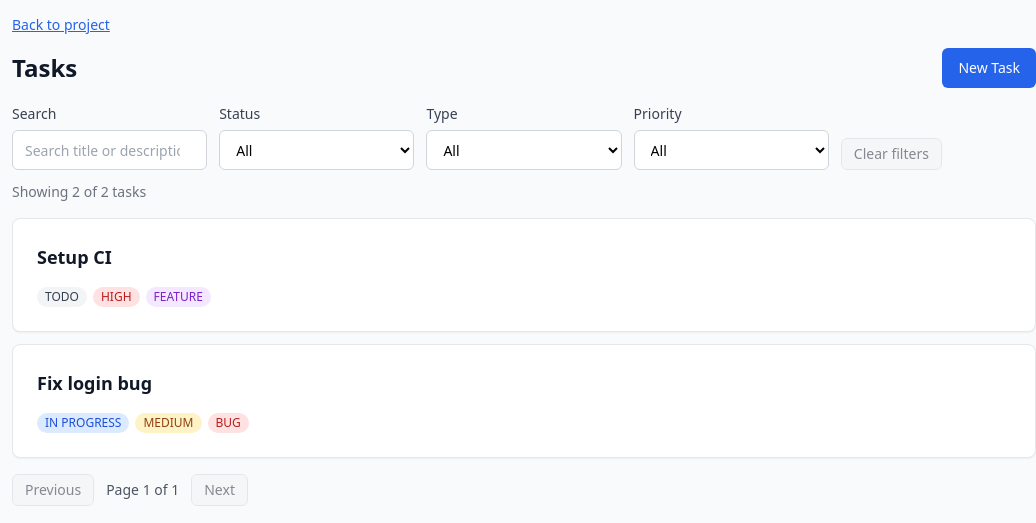
Test: Task list search and filters (behavior) › filters by type select (behavior)
expect the link "Setup CI" is shown: met, box [37,245,112,269]
Select "BUG" in the dropdown labelled "Type" at [524, 150], box [426,130,622,170]
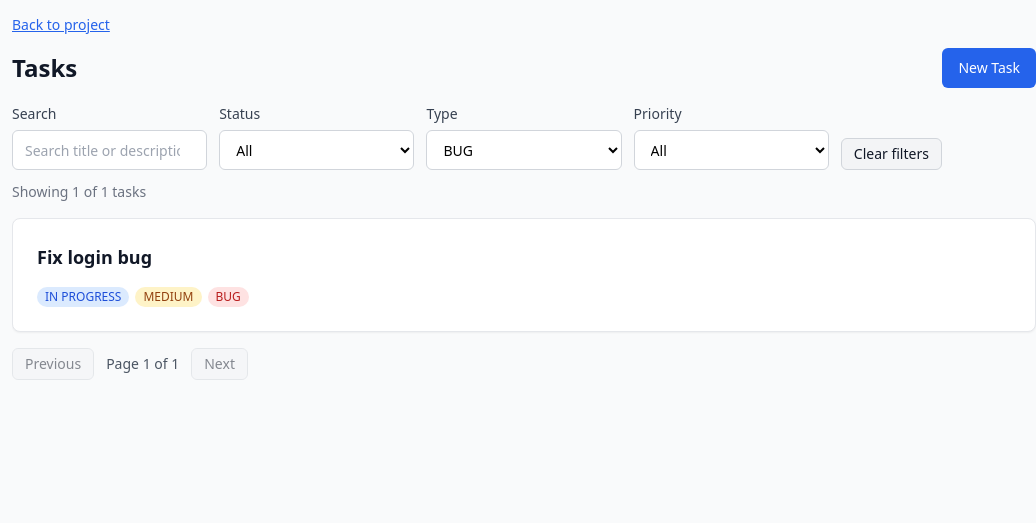
expect the link "Fix login bug" is shown: met, box [37,245,152,269]
expect the link "Setup CI" is gone: met
